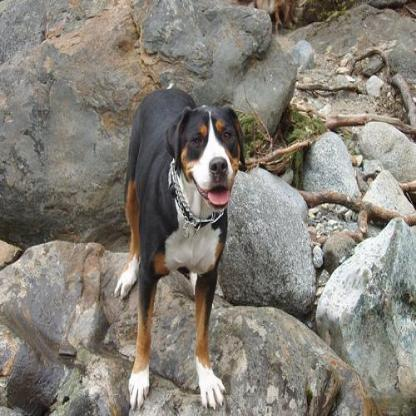Greater_Swiss_Mountain_dog: (111, 83, 248, 408)
